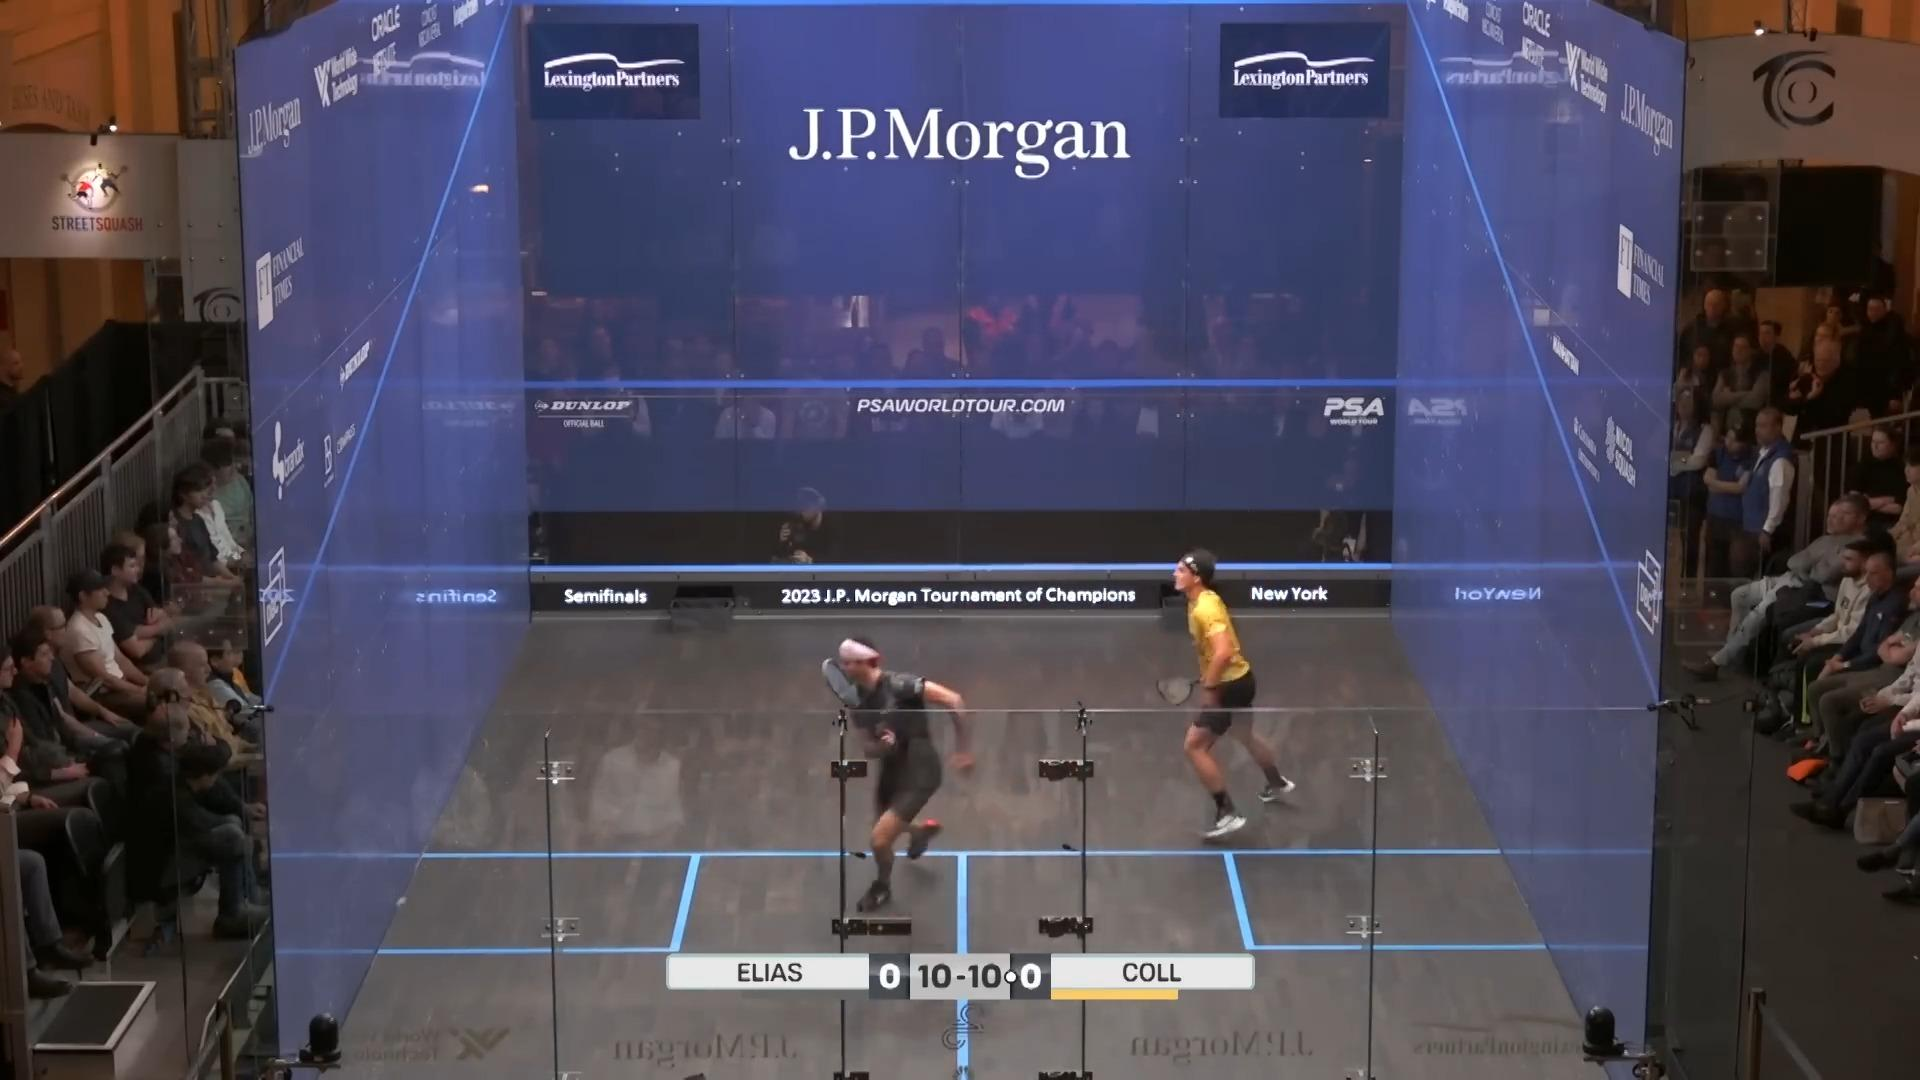Racket: (815, 653, 887, 744), (1137, 666, 1204, 719)
